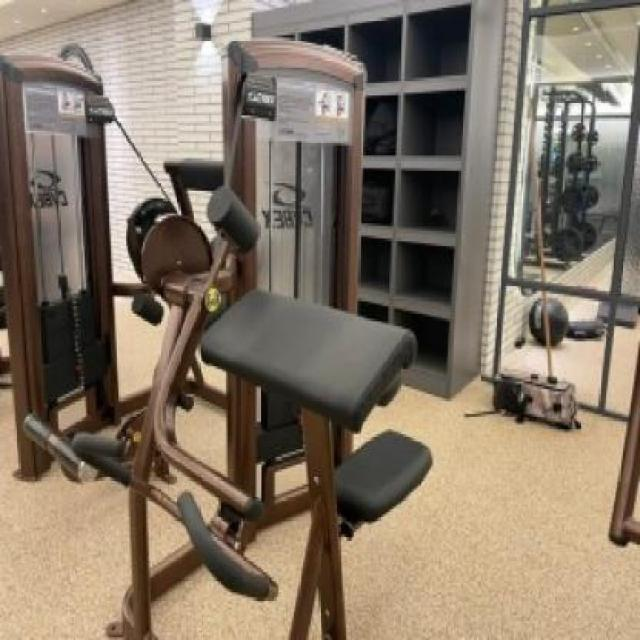arm curl machine: (80, 195, 432, 640)
